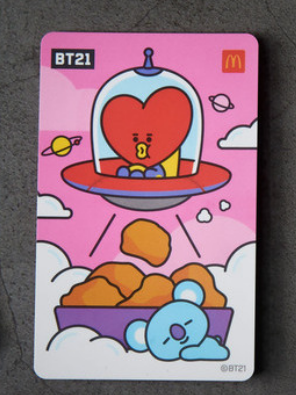card: (34, 31, 252, 380)
